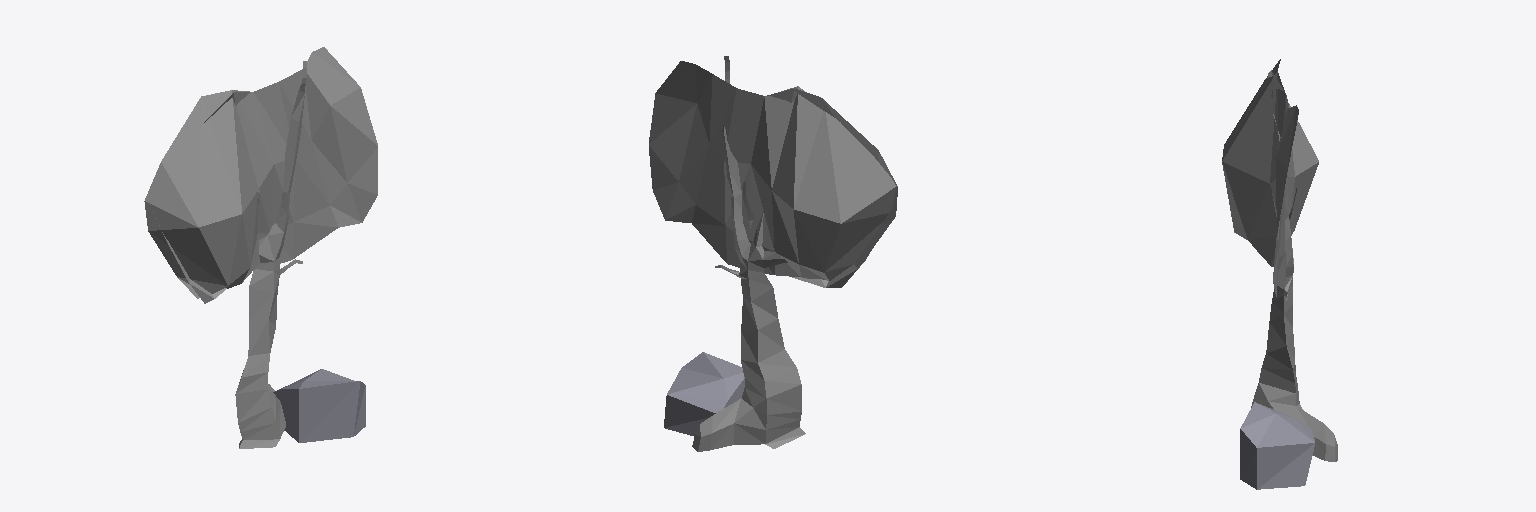
Rendered from tree2.obj.
The picture shows the model from 3 angles: view 1: azimuth 30°, elevation 25°; view 2: azimuth 150°, elevation 25°; view 3: azimuth 270°, elevation 25°; orthographic projection.
Parts seen in each view (by area): view 1: tree1.001_Grid.001, Cube.003_Cube.007; view 2: tree1.001_Grid.001, Cube.003_Cube.007; view 3: tree1.001_Grid.001, Cube.003_Cube.007.
Part boxes in pixels (x1,y1,x2,y2): tree1.001_Grid.001: (144,47,377,448); Cube.003_Cube.007: (273,369,365,442); tree1.001_Grid.001: (649,56,897,451); Cube.003_Cube.007: (664,352,744,436); tree1.001_Grid.001: (1222,59,1337,461); Cube.003_Cube.007: (1240,402,1314,489).
Size of the model in its own units: 9.12 by 13.49 by 3.8.